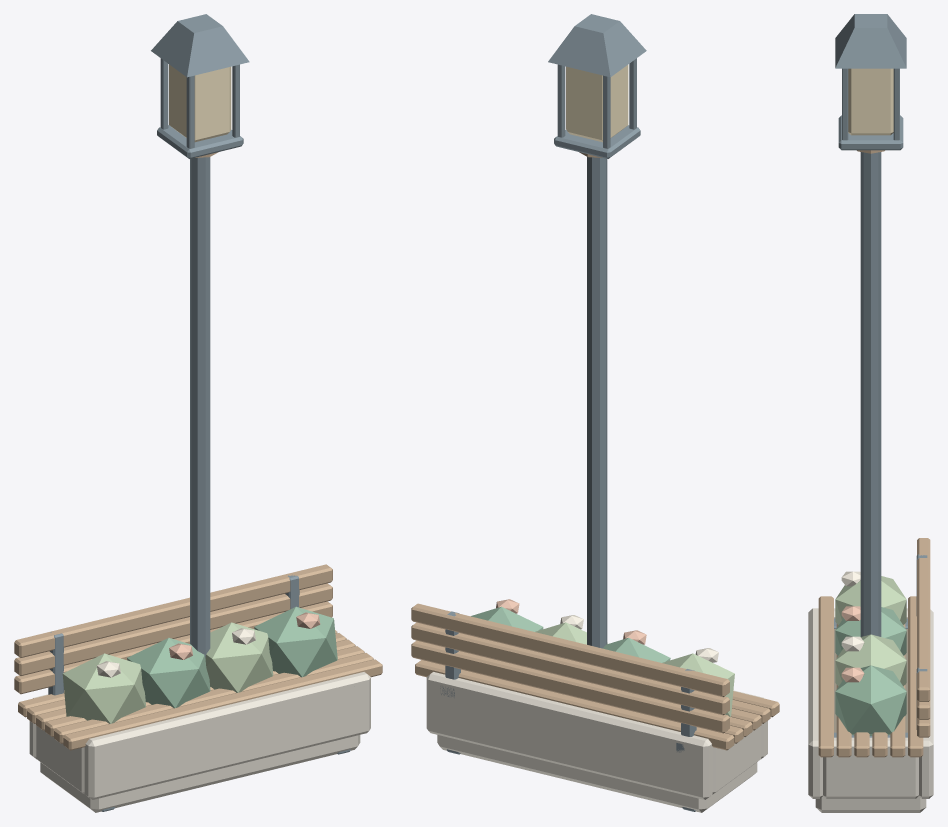
The model's file is phase8_street_kit.fbx.
3 views of the same model, side by side, from view 1: azimuth 30°, elevation 25°; view 2: azimuth 150°, elevation 25°; view 3: azimuth 270°, elevation 25° (orthographic).
Visible parts, largest first — view 1: Phase8_Planter, Phase8_Streetlamp, Phase8_Bench; view 2: Phase8_Planter, Phase8_Bench, Phase8_Streetlamp; view 3: Phase8_Planter, Phase8_Streetlamp, Phase8_Bench.
Part boxes in pixels (x1,y1,x2,y2): Phase8_Planter: (29,606,370,812); Phase8_Streetlamp: (151,14,249,657); Phase8_Bench: (14,564,382,811); Phase8_Planter: (426,599,767,812); Phase8_Bench: (411,603,779,811); Phase8_Streetlamp: (548,14,646,648); Phase8_Planter: (808,571,933,812); Phase8_Streetlamp: (835,14,906,636); Phase8_Bench: (818,538,930,757).
Size of the model in its own units: 2 by 4.5 by 0.7.
